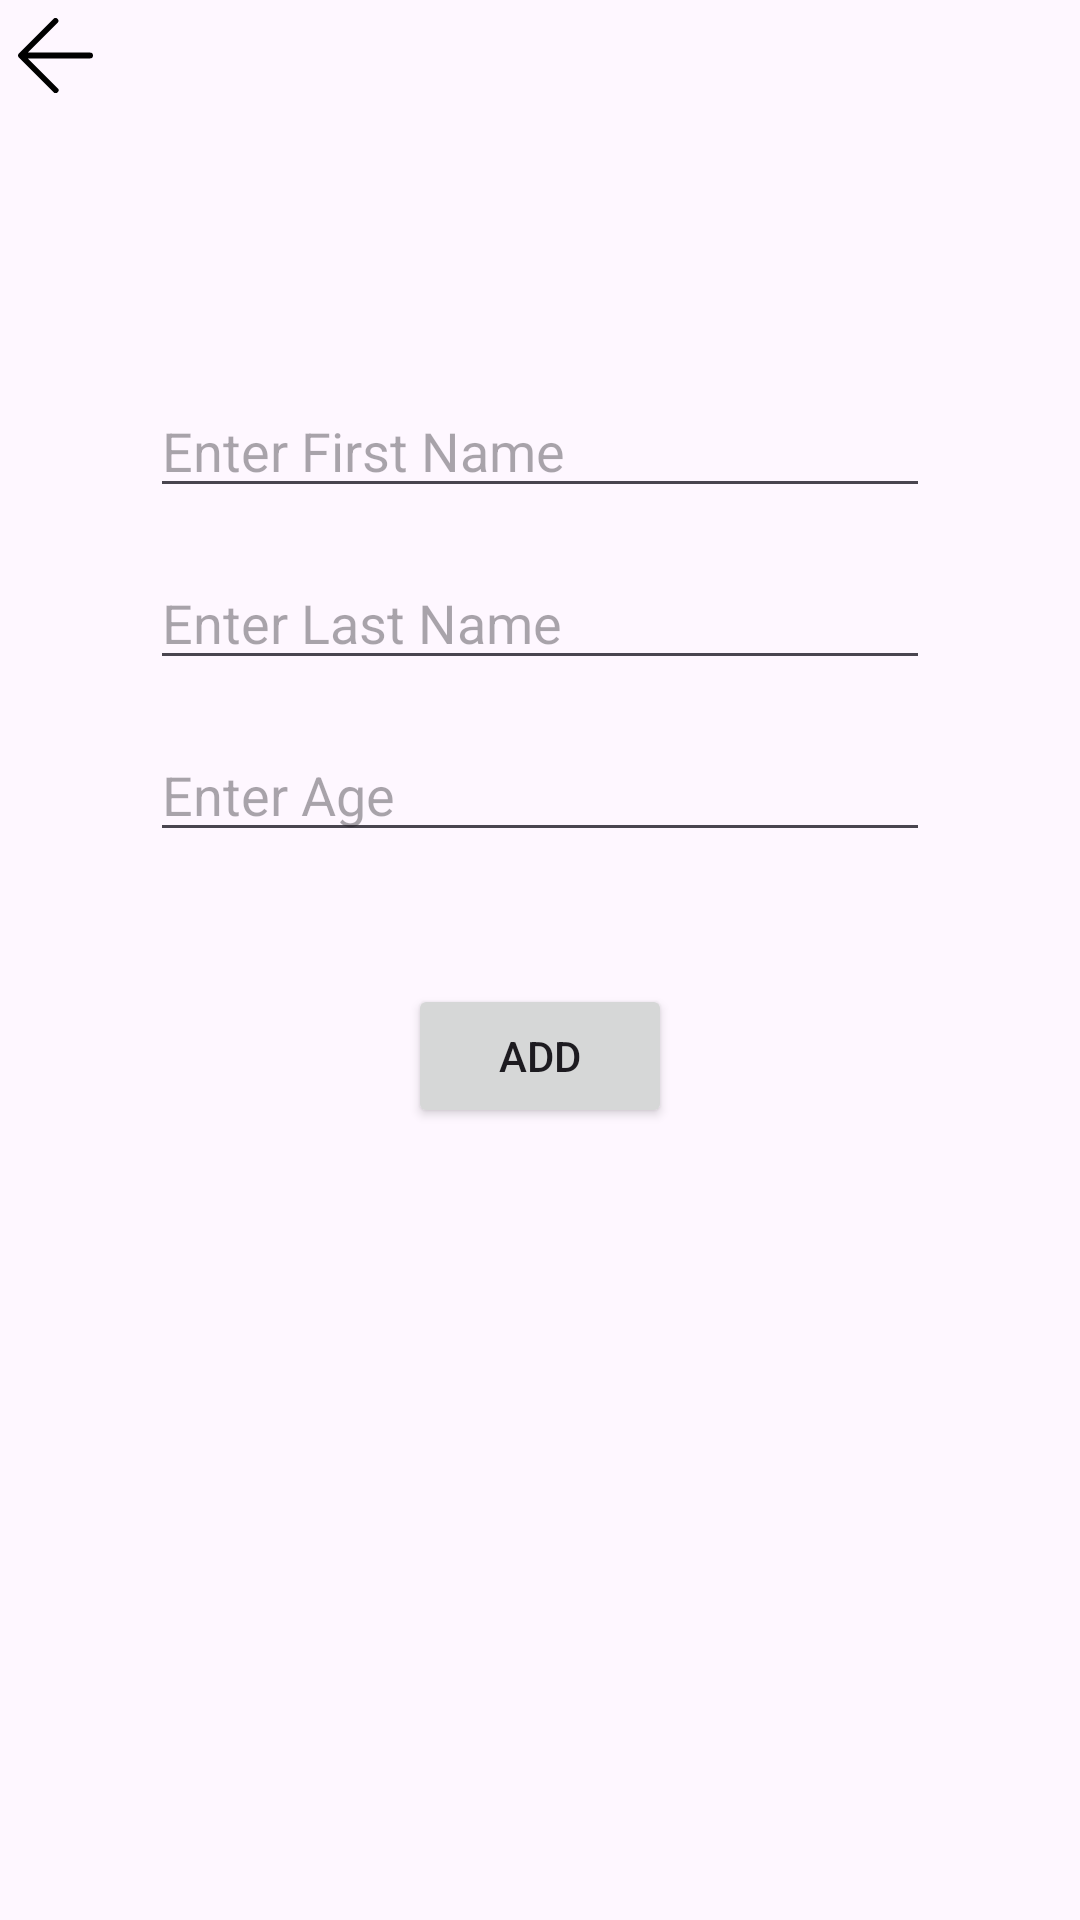

Named icons in this screenshot (1080x1920) and their bounding boxes, detection(x1, y1, x2, y2):
back arrow: detection(18, 18, 93, 93)
